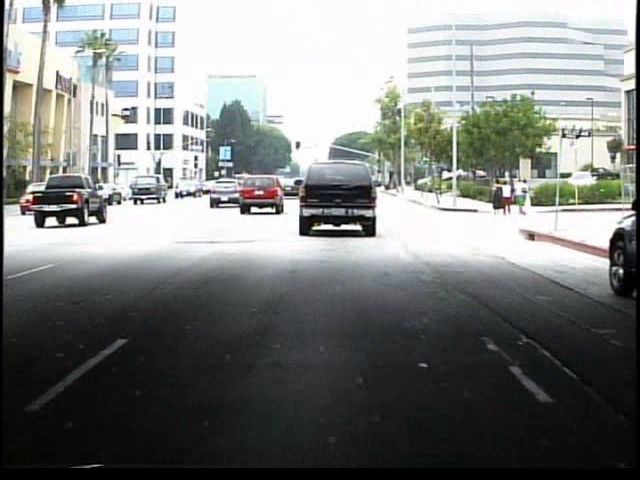person: (515, 177, 530, 218), (489, 178, 503, 215), (501, 179, 514, 217)
